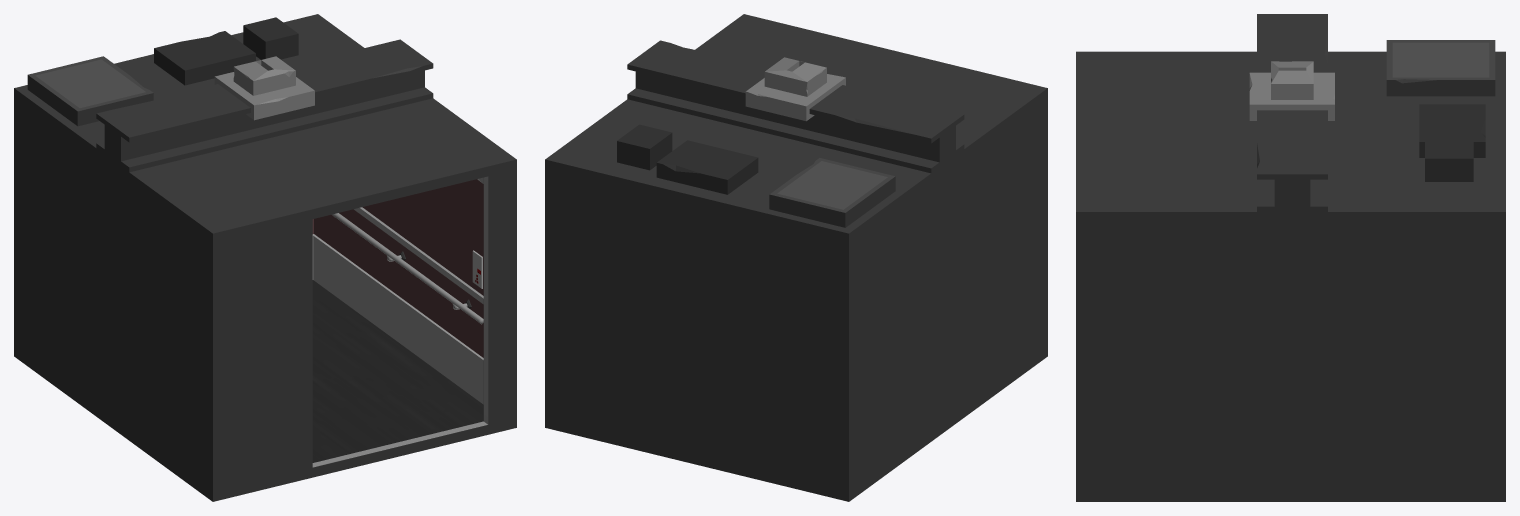
The model's file is SW_ENV_Elevator_Car_FF.fbx.
3 views of the same model, side by side, from view 1: azimuth 30°, elevation 25°; view 2: azimuth 150°, elevation 25°; view 3: azimuth 270°, elevation 25° (orthographic). The views are drawn at different scales.
Visible parts, largest first — view 1: SW_ENV_Elevator_Car_FF; view 2: SW_ENV_Elevator_Car_FF; view 3: SW_ENV_Elevator_Car_FF.
Boxes of the visible parts, <box> form: SW_ENV_Elevator_Car_FF: <box>14,14,516,501</box>; SW_ENV_Elevator_Car_FF: <box>545,14,1047,501</box>; SW_ENV_Elevator_Car_FF: <box>1076,14,1505,501</box>.
Bounding box in the file's own units: 3.2 × 3.28 × 3.63.
